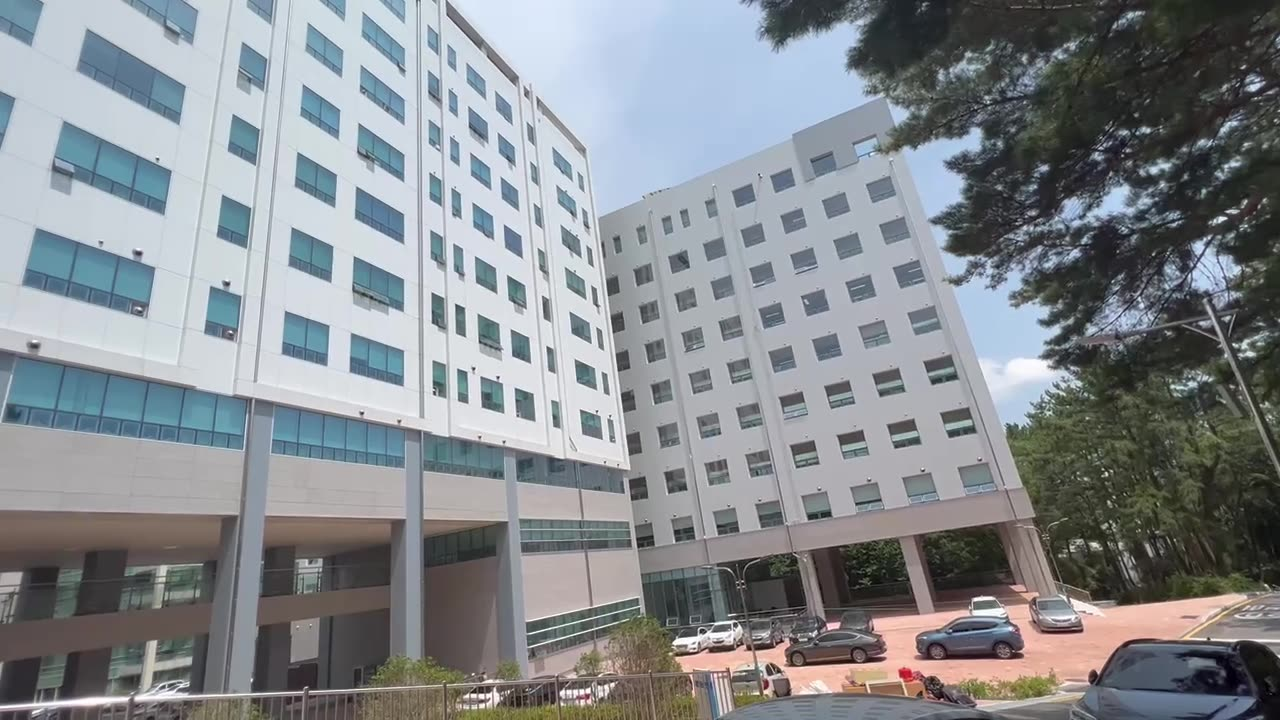medium: (11, 18, 946, 594)
